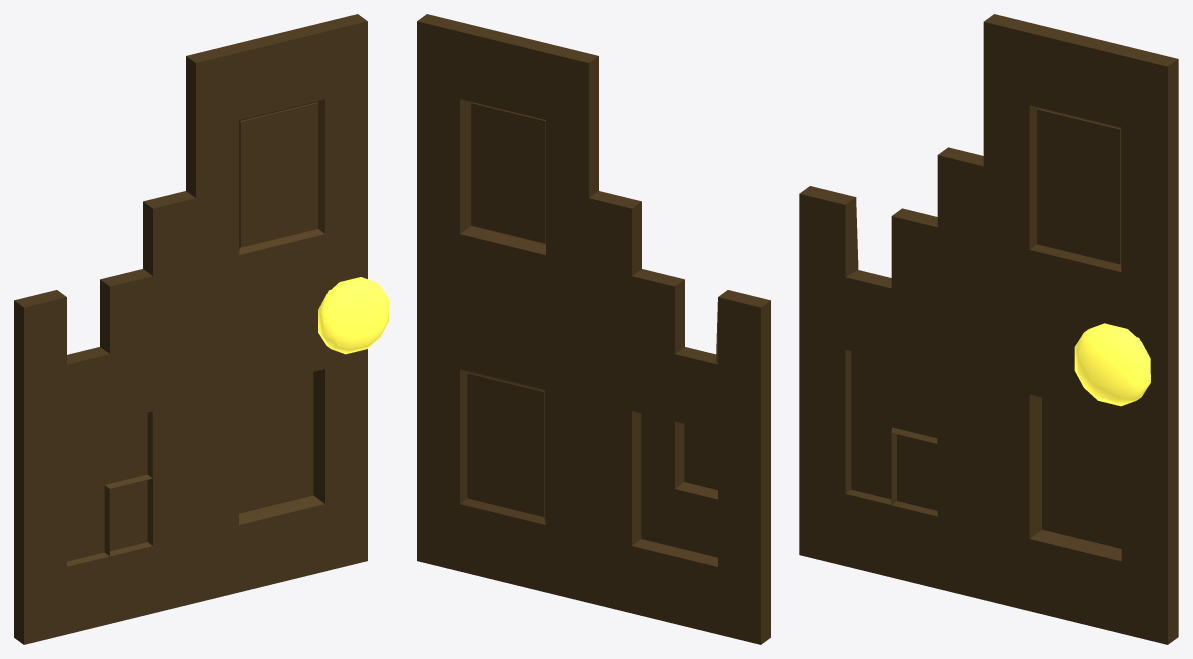
File: BrokenDoor.fbx
3 views of the same model, side by side, from view 1: azimuth 30°, elevation 25°; view 2: azimuth 150°, elevation 25°; view 3: azimuth 330°, elevation 25° (orthographic). The views are drawn at different scales.
Visible parts, largest first — view 1: Door, noob; view 2: Door; view 3: Door, noob.
Part boxes in pixels (x1,y1,x2,y2): Door: (14, 14, 367, 644); noob: (318, 277, 388, 354); Door: (417, 14, 770, 644); Door: (799, 14, 1178, 644); noob: (1074, 323, 1150, 406).
Bounding box in the file's own units: 200 × 300 × 38.04.
